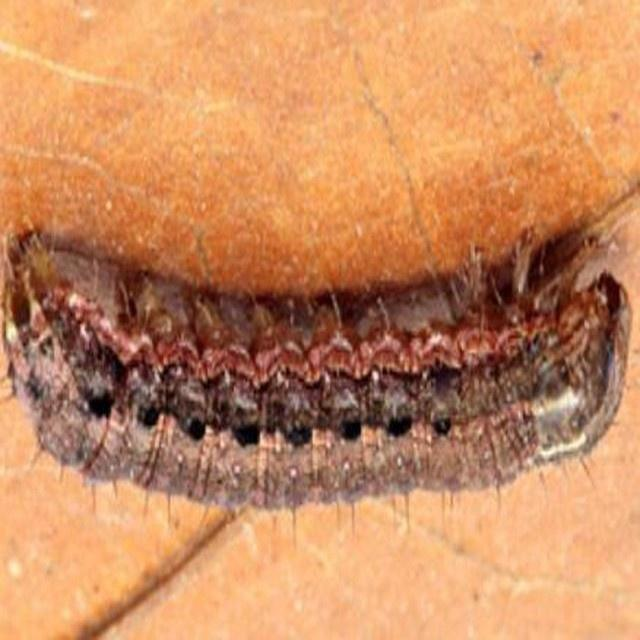gusano_cogollero: (0, 212, 640, 528)
